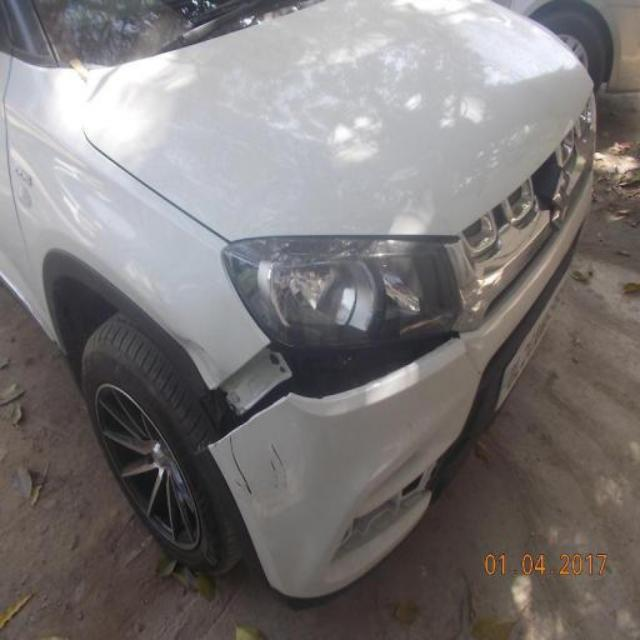dent: (175, 333, 222, 391), (459, 326, 490, 382)
dislocated part: (208, 331, 464, 453)
scratch: (224, 434, 256, 505), (268, 439, 297, 495)
